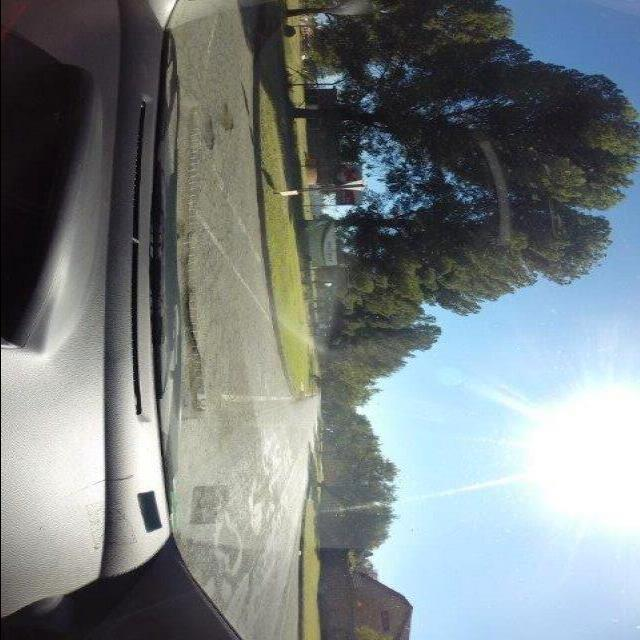jalan retak: (198, 202, 244, 376), (192, 155, 228, 211), (200, 560, 258, 591), (202, 572, 240, 601)
lubang: (195, 111, 217, 152), (215, 100, 238, 133)
